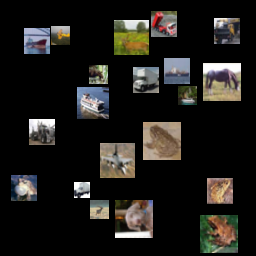airplane: (35, 34, 70, 69)
automobile: (141, 123, 170, 152), (51, 131, 77, 157), (136, 159, 155, 178), (96, 215, 112, 231)
cat: (209, 141, 238, 170)
deer: (26, 83, 61, 118)
dog: (213, 201, 251, 239), (53, 213, 91, 251), (145, 10, 174, 39), (132, 182, 158, 208)
frog: (101, 88, 127, 114), (86, 120, 105, 139)
ship: (199, 70, 218, 89)
